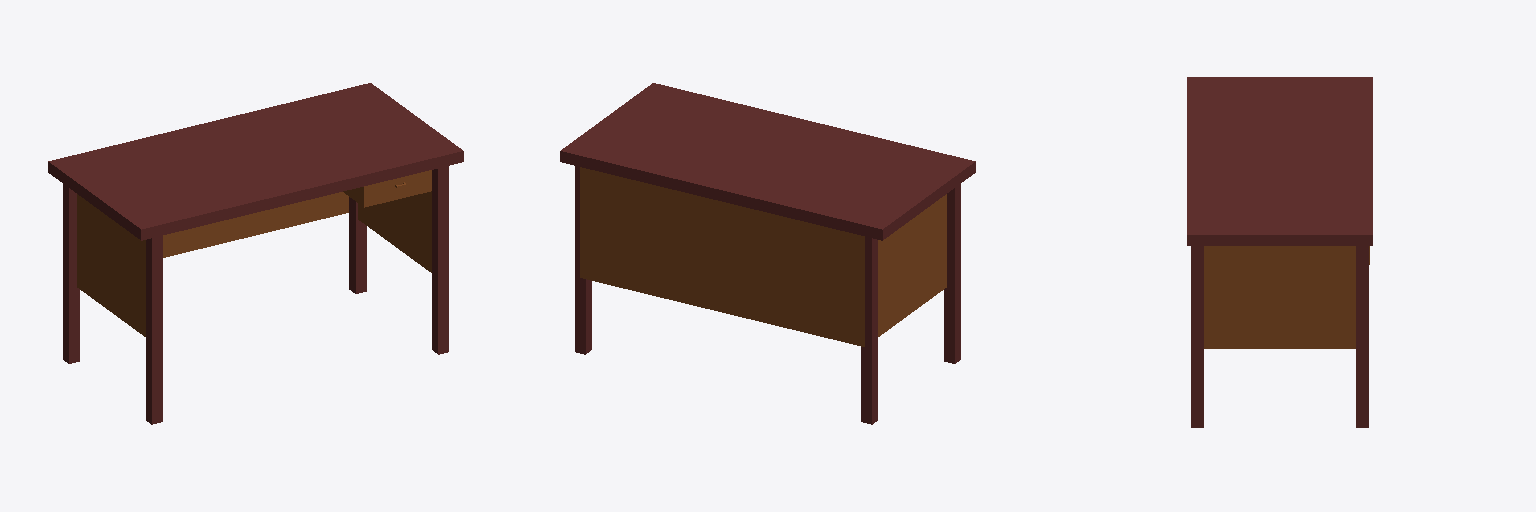
File: mesagrande.obj
3 views of the same model, side by side, from view 1: azimuth 30°, elevation 25°; view 2: azimuth 150°, elevation 25°; view 3: azimuth 270°, elevation 25° (orthographic).
Visible parts, largest first — view 1: Grid_MesaGrande; view 2: Grid_MesaGrande; view 3: Grid_MesaGrande.
Boxes of the visible parts, x1,y1,x2,y2 form: Grid_MesaGrande: [48, 83, 463, 424]; Grid_MesaGrande: [560, 83, 975, 424]; Grid_MesaGrande: [1187, 77, 1372, 427].
Size of the model in its own units: 120 by 71.02 by 60.